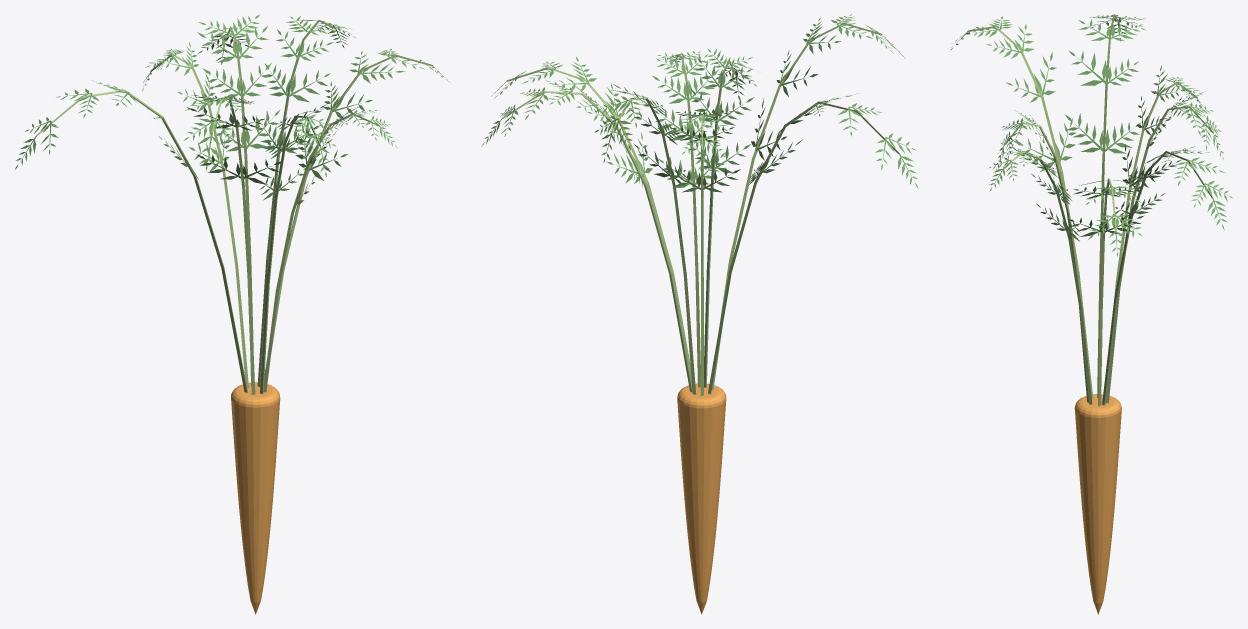
Rendered from carrot_harvest_v12.glb.
3 renders of one model, left to right at view 1: azimuth 30°, elevation 25°; view 2: azimuth 150°, elevation 25°; view 3: azimuth 270°, elevation 25°, orthographic. The views are drawn at different scales.
Visible parts, largest first — view 1: leaves, petioles, root; view 2: leaves, petioles, root; view 3: leaves, root, petioles.
Part boxes in pixels (x1,y1,x2,y2): leaves: [15, 14, 450, 213]; petioles: [36, 20, 433, 394]; root: [231, 382, 280, 614]; leaves: [481, 14, 918, 192]; petioles: [501, 22, 899, 395]; root: [677, 383, 726, 614]; leaves: [950, 15, 1232, 256]; root: [1074, 394, 1121, 614]; petioles: [967, 14, 1213, 406].
Size of the model in its own units: 0.3507 by 0.4461 by 0.2114.
